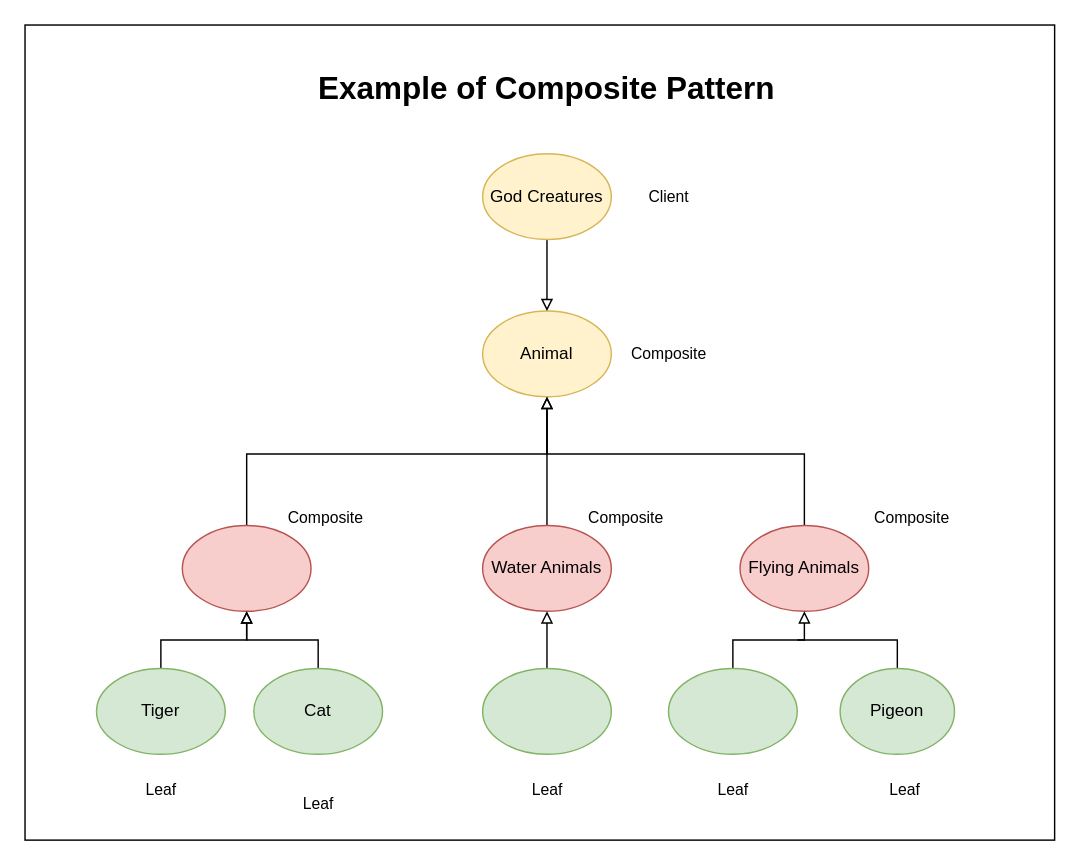
The diagram is 1080 pixels wide and 865 high, and some of its shapes have lost their labels. Here are the shapes that lost their labels. From the top down, the centre of each, then its label:
At (x=246, y=567): "Land Animals".
At (x=546, y=710): "Fish".
At (x=732, y=710): "Parrot".
